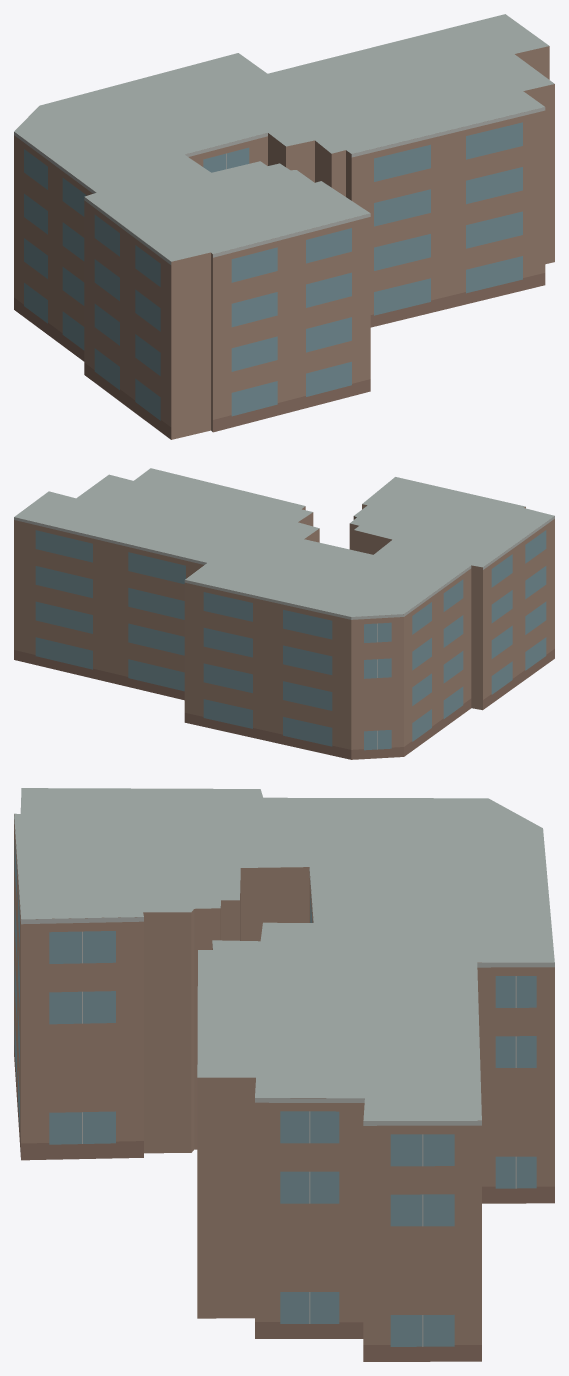
The model's file is survey-upis-32502904.glb.
3 views of the same model, one above another, from view 1: azimuth 30°, elevation 25°; view 2: azimuth 150°, elevation 25°; view 3: azimuth 270°, elevation 25° (orthographic). The views are drawn at different scales.
Parts seen in each view (by area): view 1: survey-upis-32502904.tmp; view 2: survey-upis-32502904.tmp; view 3: survey-upis-32502904.tmp.
Boxes of the visible parts, x1,y1,x2,y2 form: survey-upis-32502904.tmp: [14, 14, 554, 439]; survey-upis-32502904.tmp: [14, 468, 554, 759]; survey-upis-32502904.tmp: [14, 788, 554, 1361].
Bounding box in the file's own units: 36.49 × 12.3 × 25.04.
